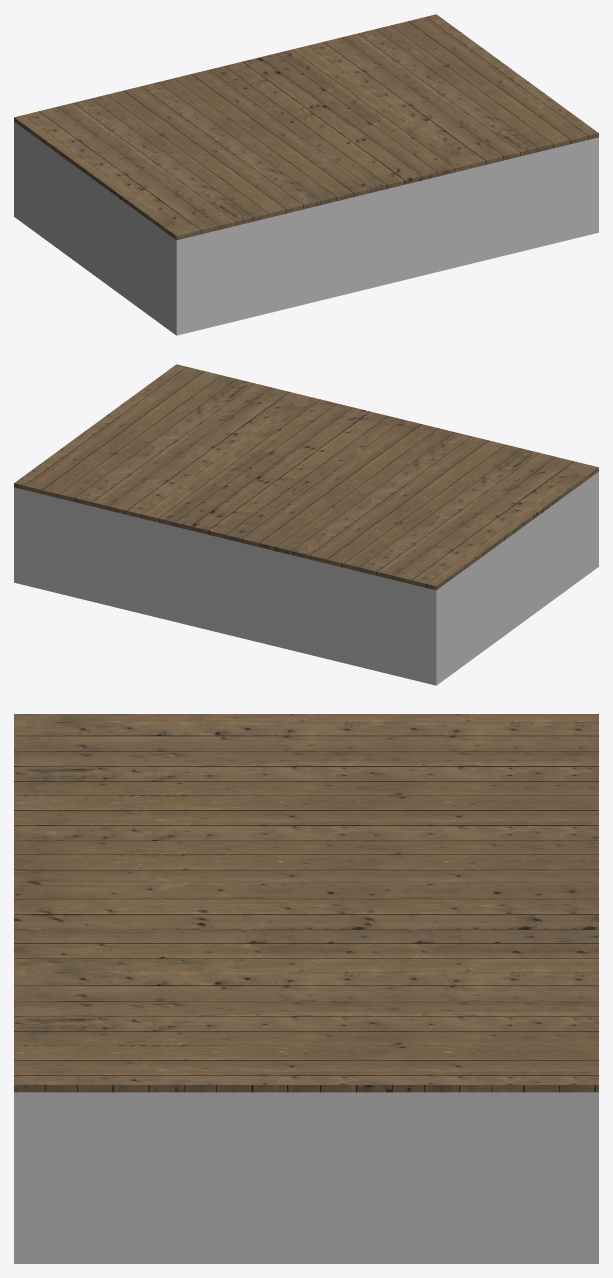
File: Porch_Floor_3x2.FBX
3 renders of one model, top to bottom at view 1: azimuth 30°, elevation 25°; view 2: azimuth 150°, elevation 25°; view 3: azimuth 270°, elevation 25°, orthographic. The views are drawn at different scales.
Visible parts, largest first — view 1: Floor_Porch_3x2; view 2: Floor_Porch_3x2; view 3: Floor_Porch_3x2.
Boxes of the visible parts, box(x1,y1,x2,y2) form: Floor_Porch_3x2: box(14, 14, 598, 335); Floor_Porch_3x2: box(14, 364, 598, 685); Floor_Porch_3x2: box(14, 714, 598, 1263).
Bounding box in the file's own units: 300 × 67.46 × 200.
